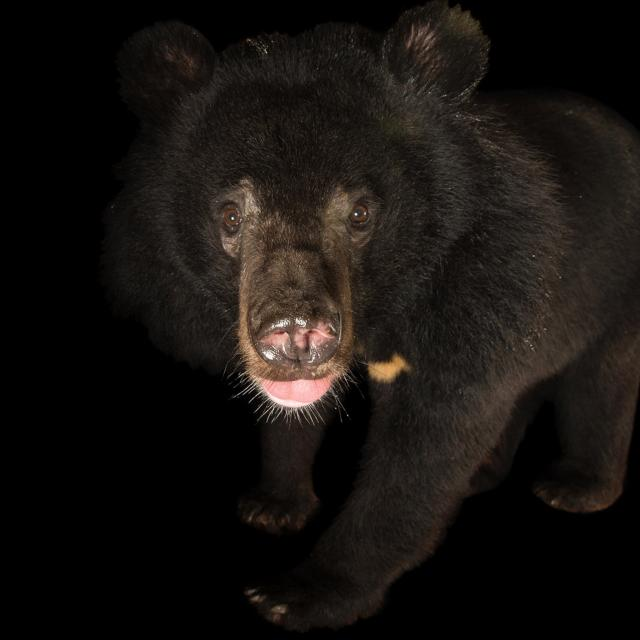bear: (83, 36, 640, 640)
